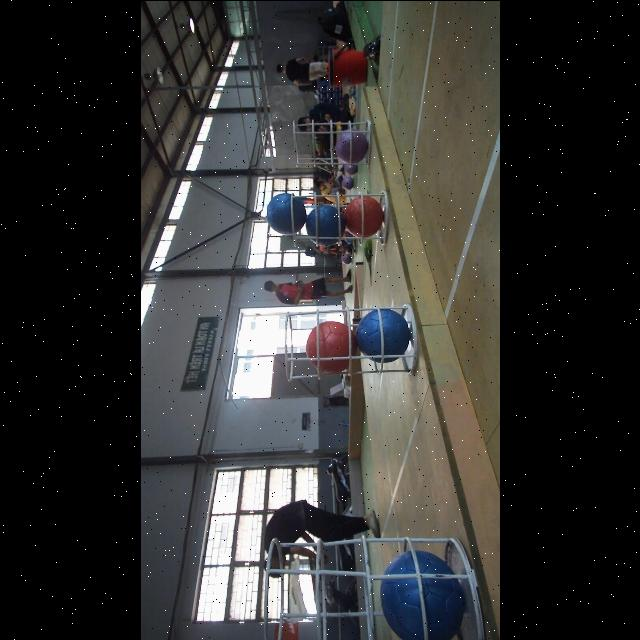B: (376, 548, 462, 640), (350, 307, 410, 361), (266, 192, 304, 236), (306, 206, 344, 248)
R: (303, 321, 352, 373), (345, 192, 383, 238)
